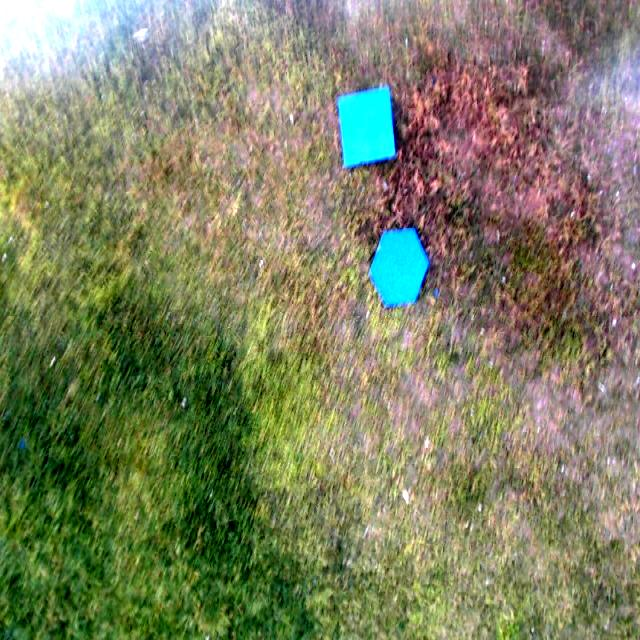blue_hexagon: (369, 228, 430, 308)
blue_square: (336, 85, 396, 168)
